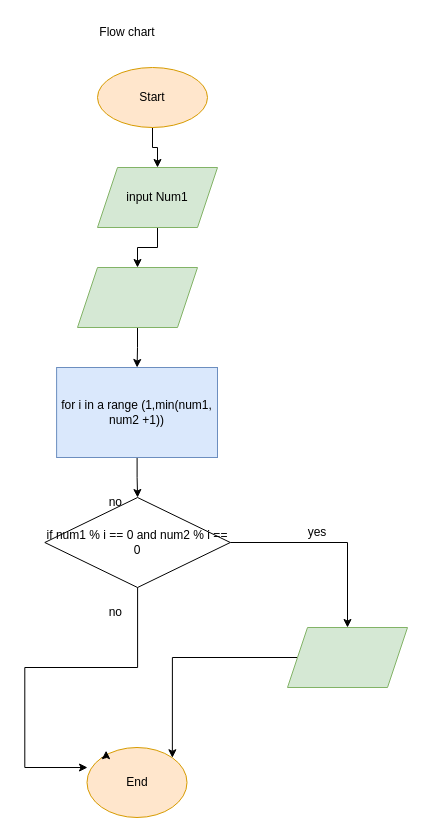
This 425x835 diagram has some shape labels left out. Here are the shapes that lost their labels. From the top down, the centre of each, then its label:
(137,297): input Num2
(347,657): hcf = i
